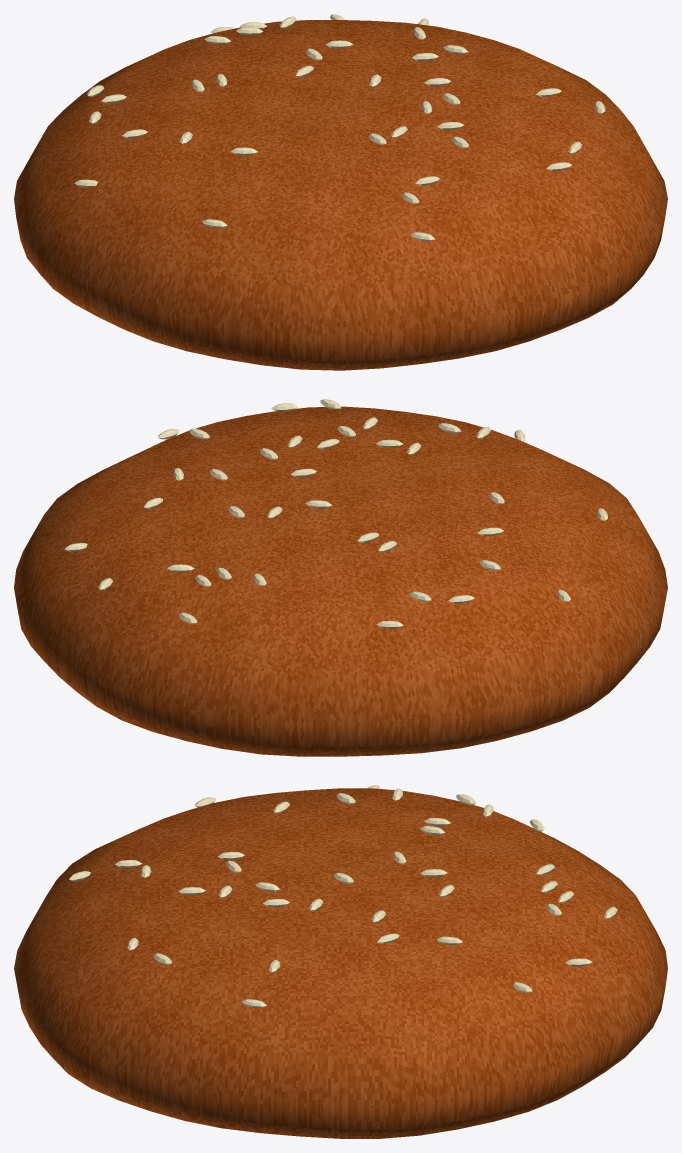
File: burger_bun_top.glb
3 views of the same model, one above another, from view 1: azimuth 30°, elevation 25°; view 2: azimuth 150°, elevation 25°; view 3: azimuth 270°, elevation 25° (orthographic).
Parts seen in each view (by area): view 1: BurgerBun_Top; view 2: BurgerBun_Top; view 3: BurgerBun_Top.
Boxes of the visible parts, box(x1,y1,x2,y2) form: BurgerBun_Top: box(14, 14, 667, 370); BurgerBun_Top: box(14, 399, 667, 756); BurgerBun_Top: box(14, 785, 667, 1138).
Size of the model in its own units: 0.1501 by 0.0401 by 0.15.
4 materials, 1 textured.
